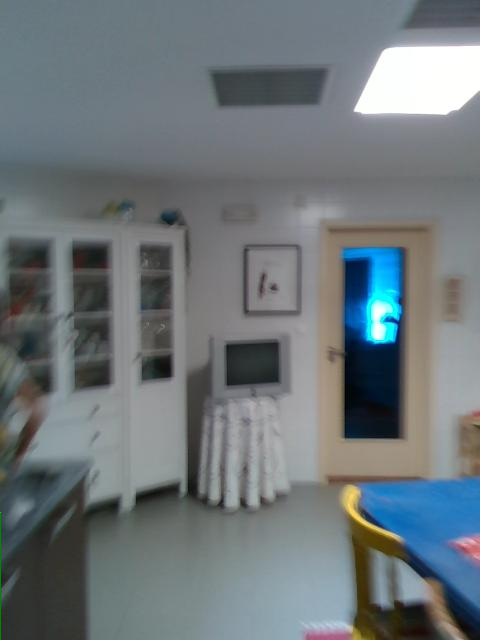door: (319, 218, 437, 485)
